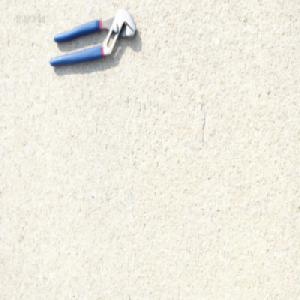Pliers: (48, 7, 137, 69)
